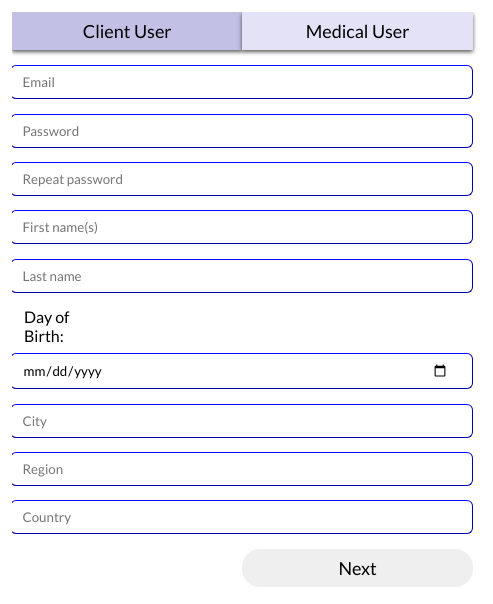
Scenario: Test that 'Medical user' field can be pressed, and that the input field is changed
Click the button "Medical User". click: coordinates (358, 31)
box: [242,12,473,50]
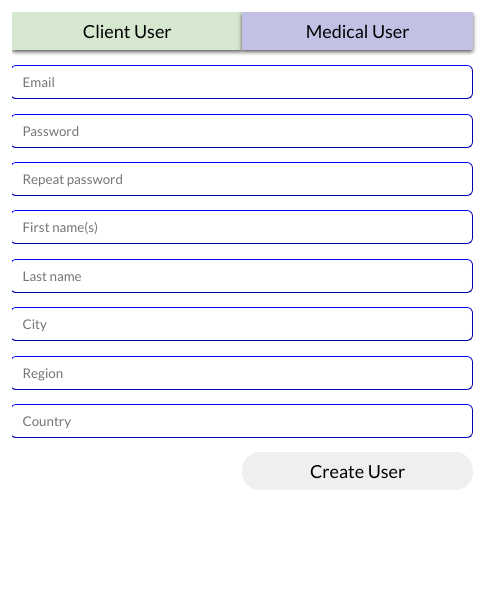
Expected: the button "Next" is gone
Expected: the button "Create User" is shown, [242,452,473,490]
